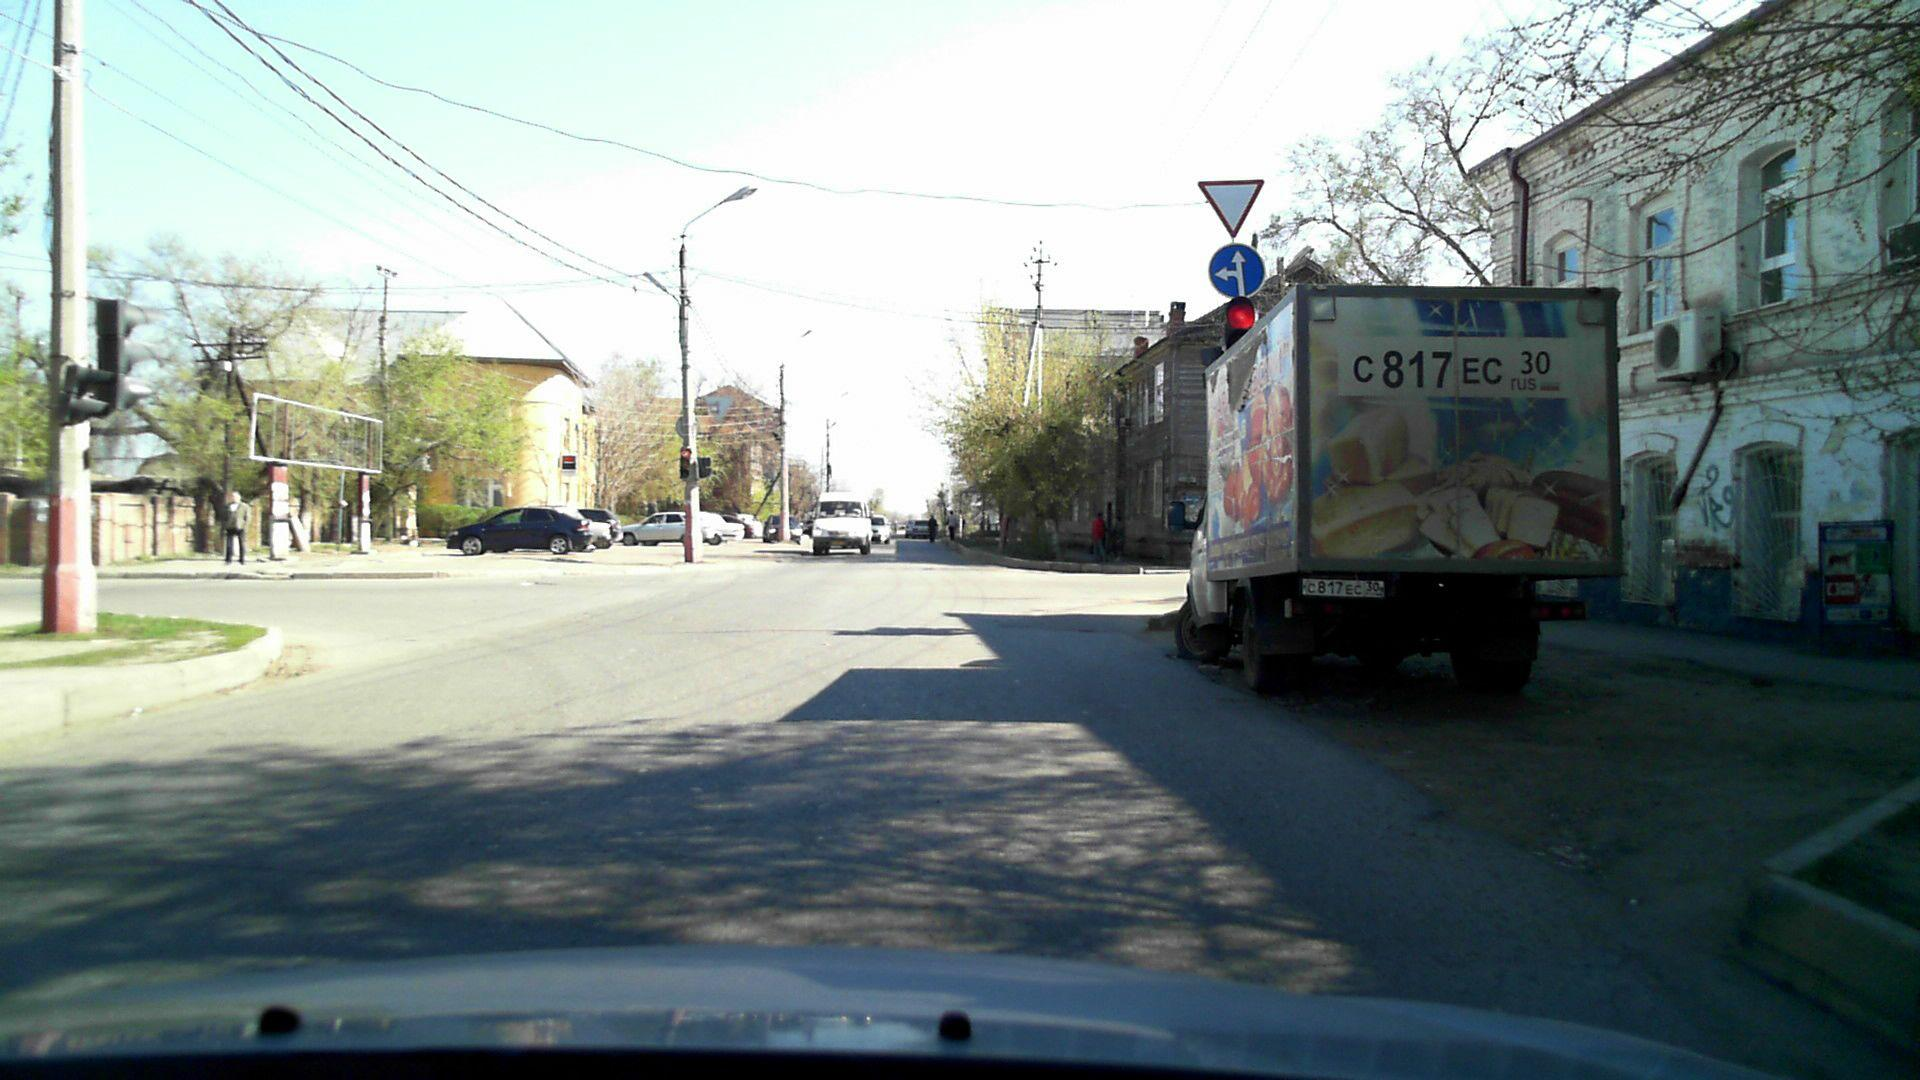2_4: (1192, 174, 1266, 237)
4_1_5: (1203, 243, 1273, 302)
